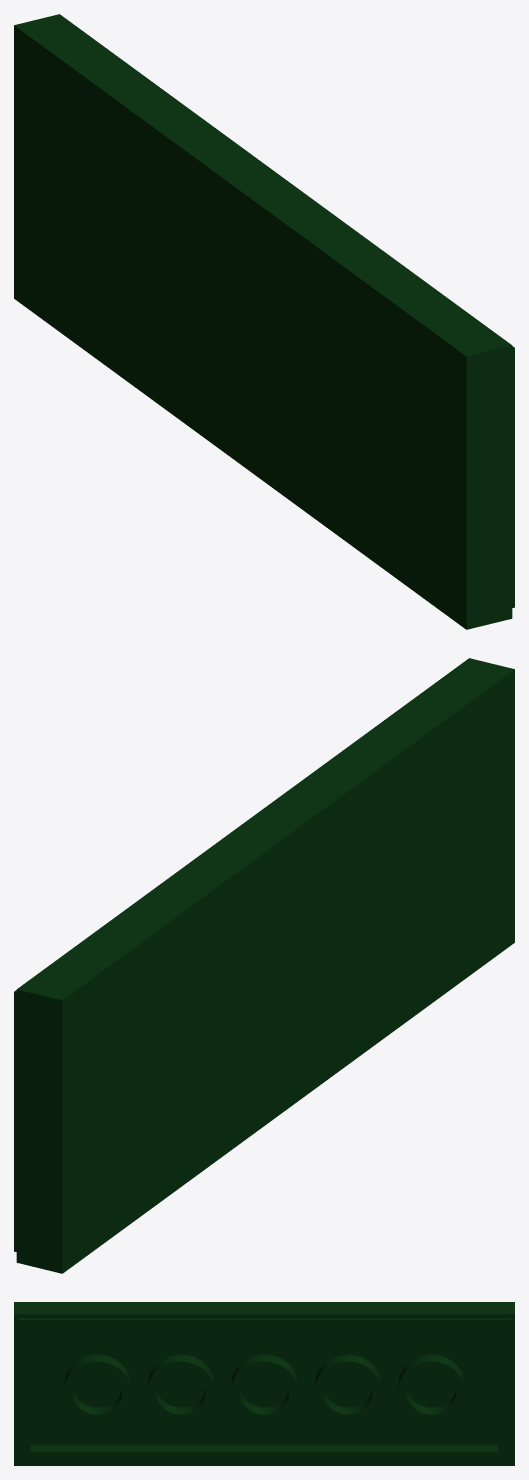
File: tile2*6_green.obj
3 renders of one model, top to bottom at view 1: azimuth 30°, elevation 25°; view 2: azimuth 150°, elevation 25°; view 3: azimuth 270°, elevation 25°, orthographic. The views are drawn at different scales.
Bounding box in the file's own units: 8 × 40 × 120.
